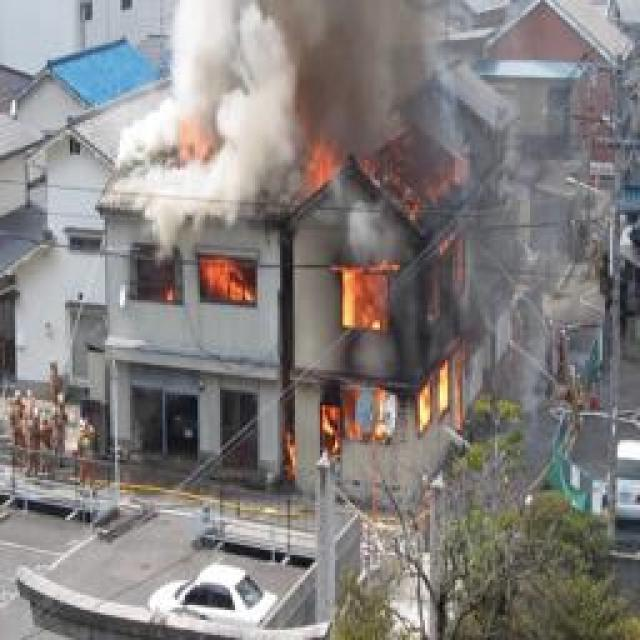Fire: (321, 145, 460, 469), (158, 260, 253, 307), (168, 110, 225, 171)
